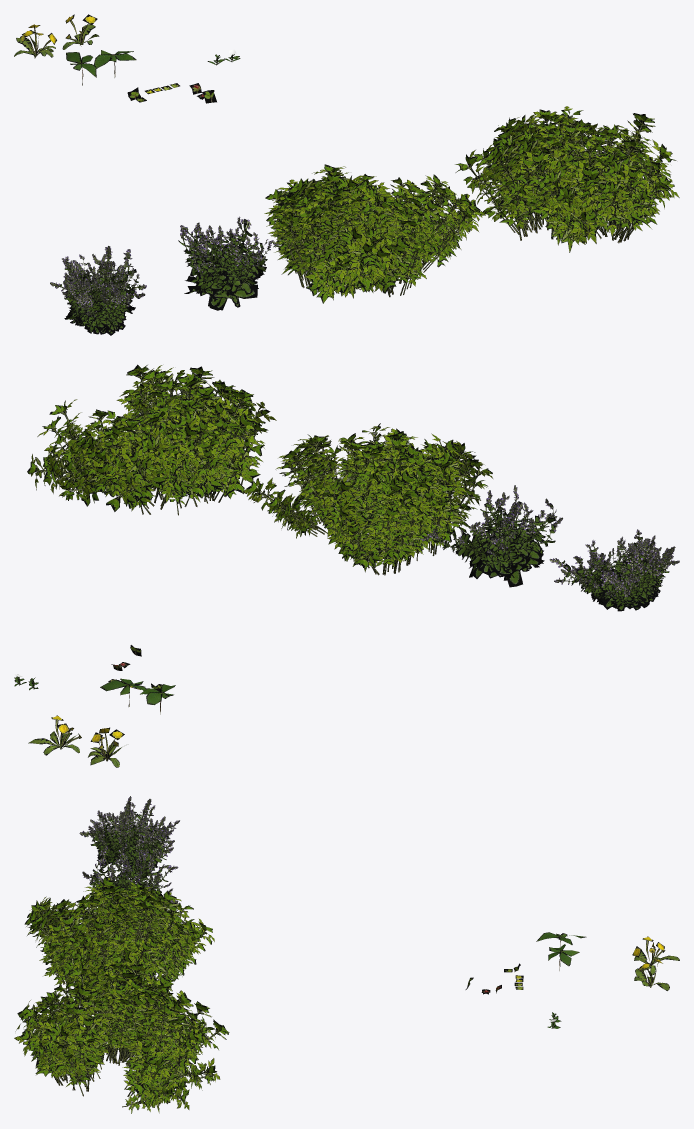
The model's file is scanned_plants.glb.
3 views of the same model, one above another, from view 1: azimuth 30°, elevation 25°; view 2: azimuth 150°, elevation 25°; view 3: azimuth 270°, elevation 25° (orthographic). The views are drawn at different scales.
Visible parts, largest first — view 1: Merged; view 2: Merged; view 3: Merged.
Boxes of the visible parts, x1,y1,x2,y2 form: Merged: (14,14,679,335); Merged: (14,364,679,767); Merged: (14,796,679,1113).
Size of the model in its own units: 14.17 by 2.46 by 15.06.
Materials: 6 (6 with a texture image).
